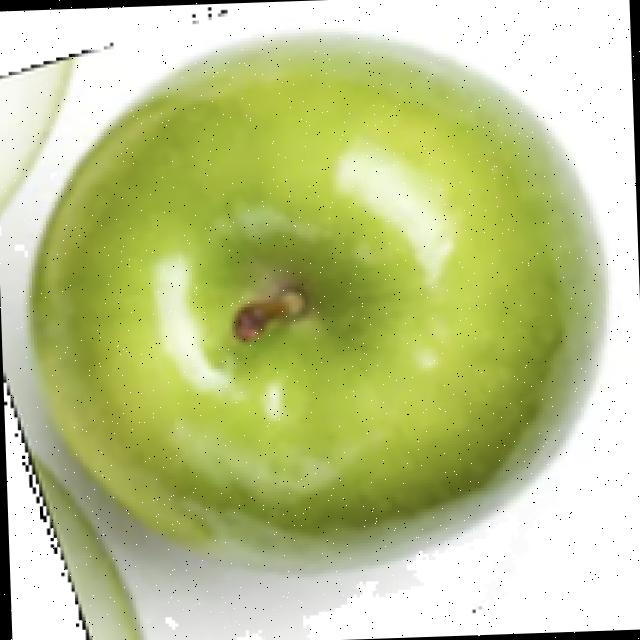apple: (5, 24, 616, 640)
